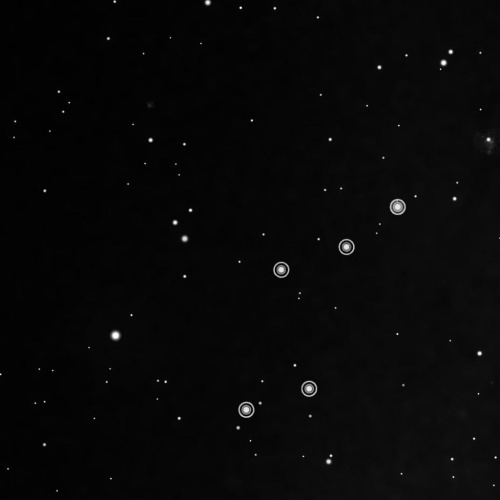lyra: (234, 194, 408, 422)
